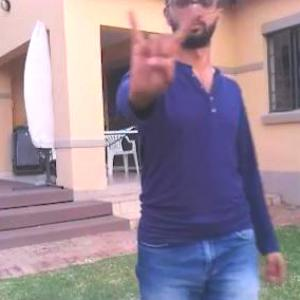takeoff-hand: (121, 1, 200, 104)
